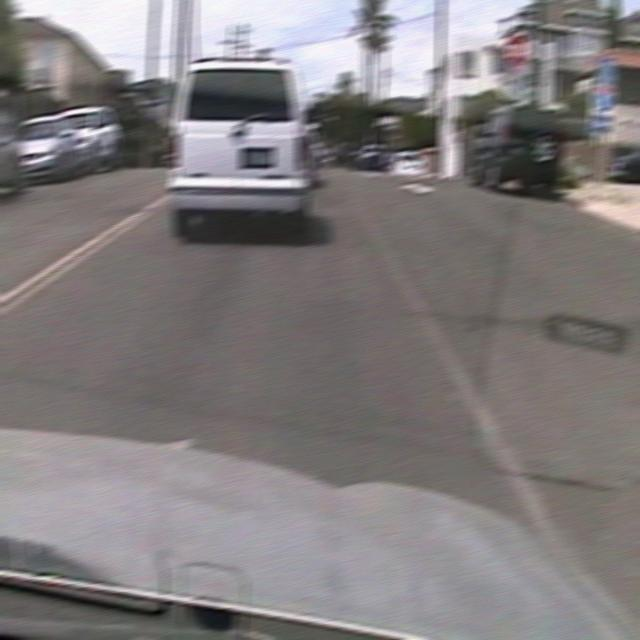stop: (502, 34, 531, 70)
